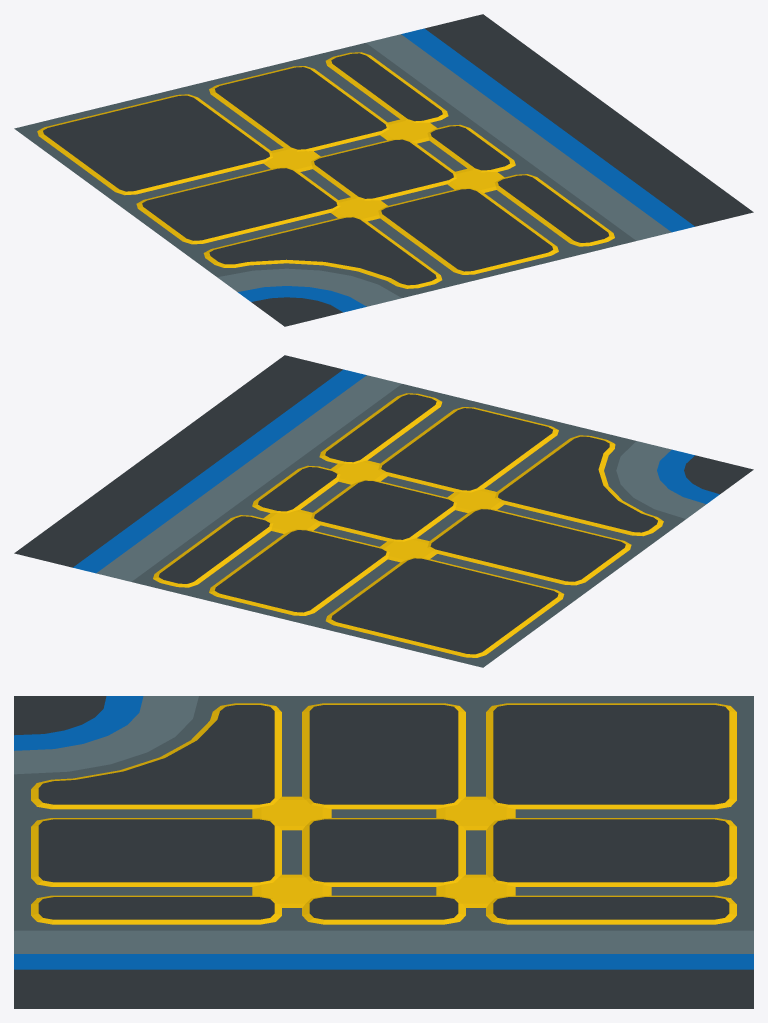
File: Floor_type_C_025.fbx
3 renders of one model, top to bottom at view 1: azimuth 30°, elevation 25°; view 2: azimuth 150°, elevation 25°; view 3: azimuth 270°, elevation 25°, orthographic. The views are drawn at different scales.
Parts seen in each view (by area): view 1: Floor_type_C_025; view 2: Floor_type_C_025; view 3: Floor_type_C_025.
Boxes of the visible parts, left/top/right/bottom form: Floor_type_C_025: left=14, top=14, right=753, bottom=326; Floor_type_C_025: left=14, top=355, right=753, bottom=667; Floor_type_C_025: left=14, top=696, right=753, bottom=1008.
Bounding box in the file's own units: 400 × 400 × 1.34.
